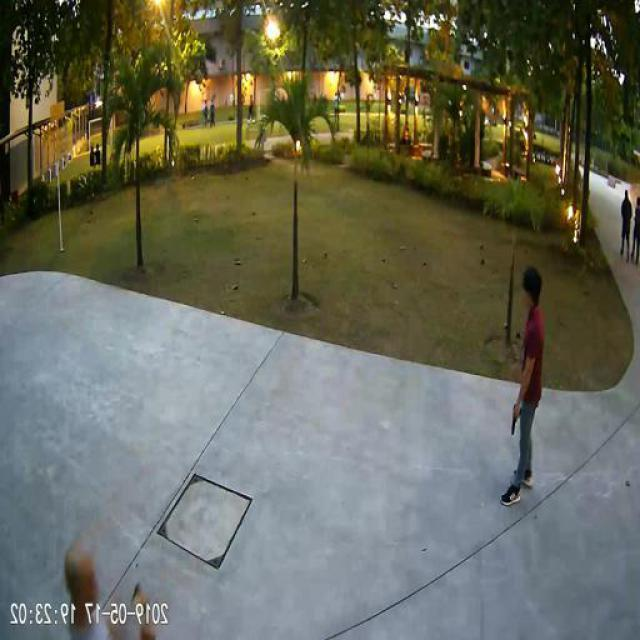Gun: (514, 398, 524, 434)
